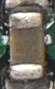Capacitor: (7, 12, 47, 81)
